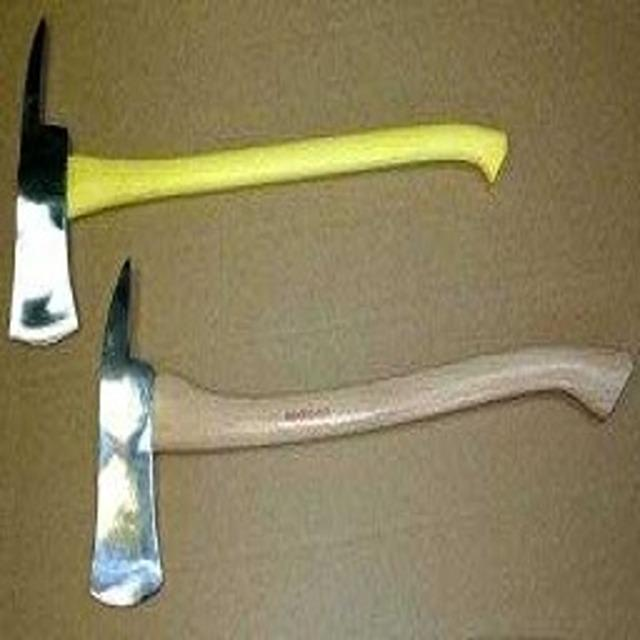ax: (78, 244, 638, 628), (0, 4, 515, 354)
